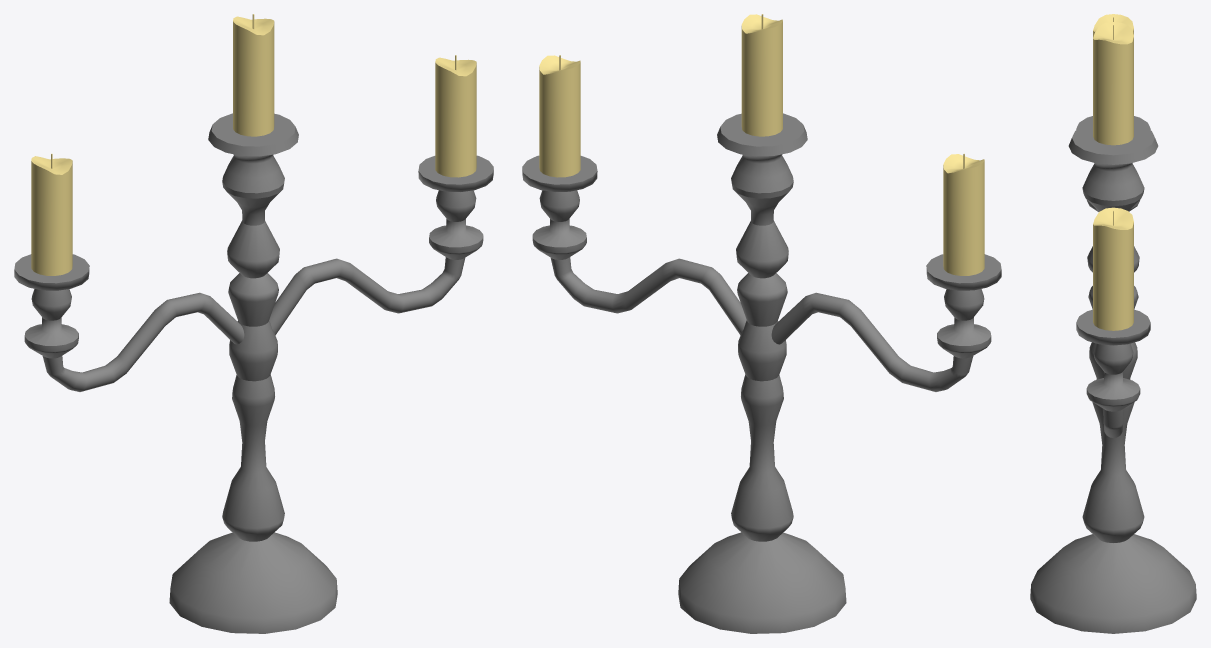
Rendered from candle.obj.
The picture shows the model from 3 angles, left to right: view 1: azimuth 30°, elevation 25°; view 2: azimuth 150°, elevation 25°; view 3: azimuth 270°, elevation 25°; orthographic projection.
Visible parts, largest first — view 1: pCube5; view 2: pCube5; view 3: pCube5.
Boxes of the visible parts, bbox=[...] form: pCube5: bbox=[14, 14, 493, 633]; pCube5: bbox=[522, 14, 1001, 633]; pCube5: bbox=[1030, 14, 1196, 633].
Bounding box in the file's own units: 4.21 × 5 × 1.32.
